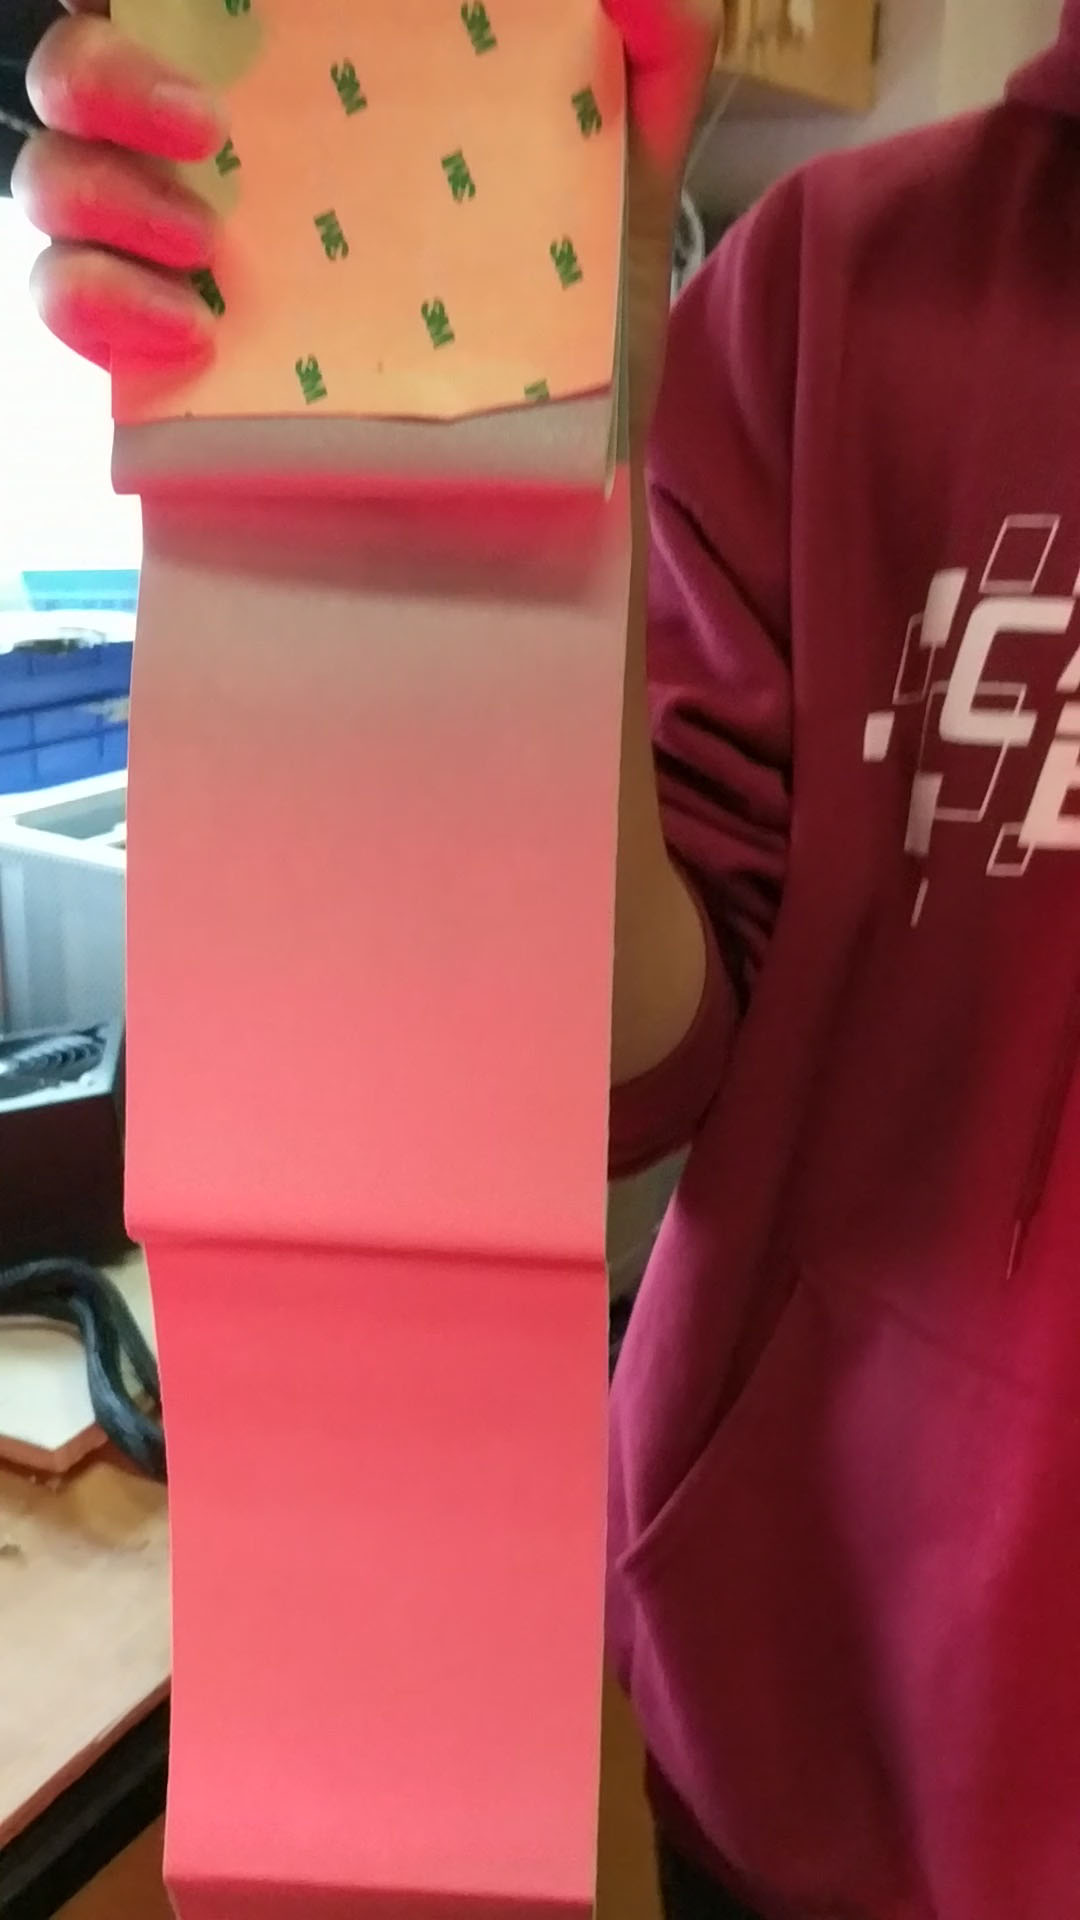gear: (124, 0, 628, 1920)
